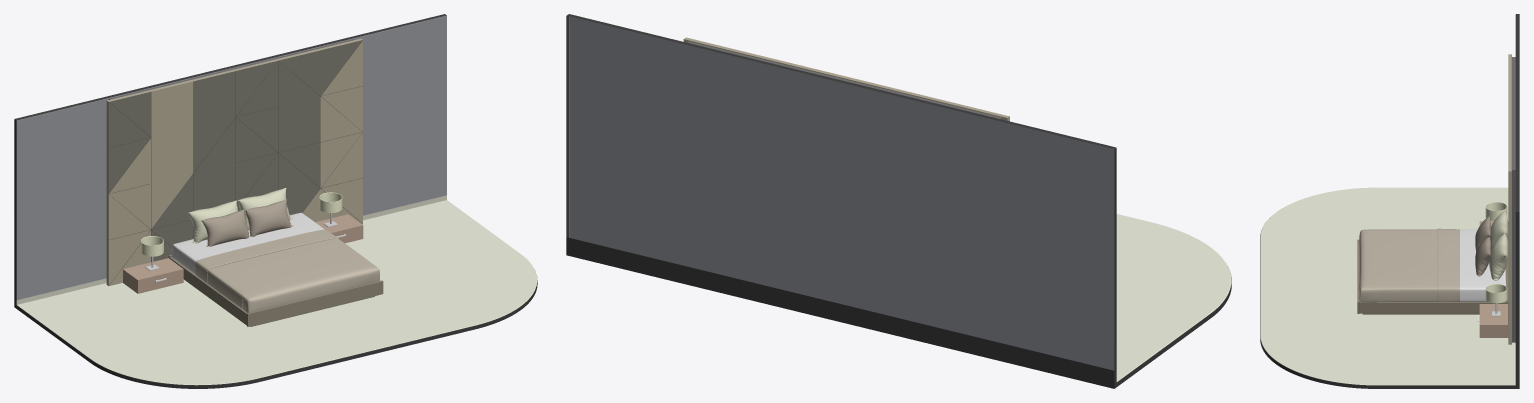
3 renders of one model, left to right at view 1: azimuth 30°, elevation 25°; view 2: azimuth 150°, elevation 25°; view 3: azimuth 270°, elevation 25°, orthographic. The views are drawn at different scales.
Visible parts, largest first — view 1: floor_flooring_geo, wall_wall_cladding_geo, wall_cladding_accent_1_geo, wall_cladding_geo, bed_blanket_geo, set_rim_geo, bed_laminate_bedframe_geo, bed_bedsheet_geo, wall_cladding_accent_2_geo, sideTable_laminate_L_geo, bed_pillow_1_geo, bed_pillow_2_geo (+7 smaller); view 2: wall_wall_cladding_geo, set_rim_geo, floor_flooring_geo, wall_cladding_geo, wall_cladding_back_geo; view 3: floor_flooring_geo, bed_blanket_geo, set_rim_geo, bed_laminate_bedframe_geo, bed_bedsheet_geo, wall_cladding_geo, wall_cladding_back_geo, sideTable_laminate_r_geo, bed_pillow_4_geo, bed_pillow_2_geo, bed_pillow_3_geo, lamp_upholstery_r_geo (+3 smaller).
Part boxes in pixels (x1=…): floor_flooring_geo: x1=17, y1=200, x2=537, y2=385; wall_wall_cladding_geo: x1=16, y1=15, x2=446, y2=299; wall_cladding_accent_1_geo: x1=108, y1=40, x2=362, y2=261; wall_cladding_geo: x1=106, y1=38, x2=362, y2=286; bed_blanket_geo: x1=195, y1=229, x2=379, y2=313; set_rim_geo: x1=14, y1=14, x2=537, y2=388; bed_laminate_bedframe_geo: x1=168, y1=254, x2=383, y2=326; bed_bedsheet_geo: x1=171, y1=212, x2=324, y2=274; wall_cladding_accent_2_geo: x1=109, y1=40, x2=362, y2=285; sideTable_laminate_L_geo: x1=123, y1=258, x2=183, y2=293; bed_pillow_1_geo: x1=201, y1=209, x2=250, y2=246; bed_pillow_2_geo: x1=245, y1=199, x2=293, y2=236; wall_wall_cladding_geo: x1=569, y1=16, x2=1114, y2=370; set_rim_geo: x1=566, y1=14, x2=1231, y2=388; floor_flooring_geo: x1=1116, y1=214, x2=1231, y2=381; wall_cladding_geo: x1=683, y1=37, x2=1009, y2=121; wall_cladding_back_geo: x1=686, y1=41, x2=1001, y2=265; floor_flooring_geo: x1=1260, y1=187, x2=1515, y2=385; bed_blanket_geo: x1=1359, y1=228, x2=1459, y2=302; set_rim_geo: x1=1260, y1=14, x2=1519, y2=388; bed_laminate_bedframe_geo: x1=1357, y1=239, x2=1508, y2=314; bed_bedsheet_geo: x1=1460, y1=229, x2=1506, y2=301; wall_cladding_geo: x1=1508, y1=54, x2=1511, y2=344; wall_cladding_back_geo: x1=1512, y1=57, x2=1515, y2=342; sideTable_laminate_r_geo: x1=1479, y1=304, x2=1508, y2=337; bed_pillow_4_geo: x1=1489, y1=233, x2=1508, y2=280; bed_pillow_2_geo: x1=1475, y1=237, x2=1490, y2=276; bed_pillow_3_geo: x1=1490, y1=211, x2=1508, y2=249; lamp_upholstery_r_geo: x1=1485, y1=284, x2=1507, y2=303.
Size of the model in its own units: 660 by 276 by 366.
